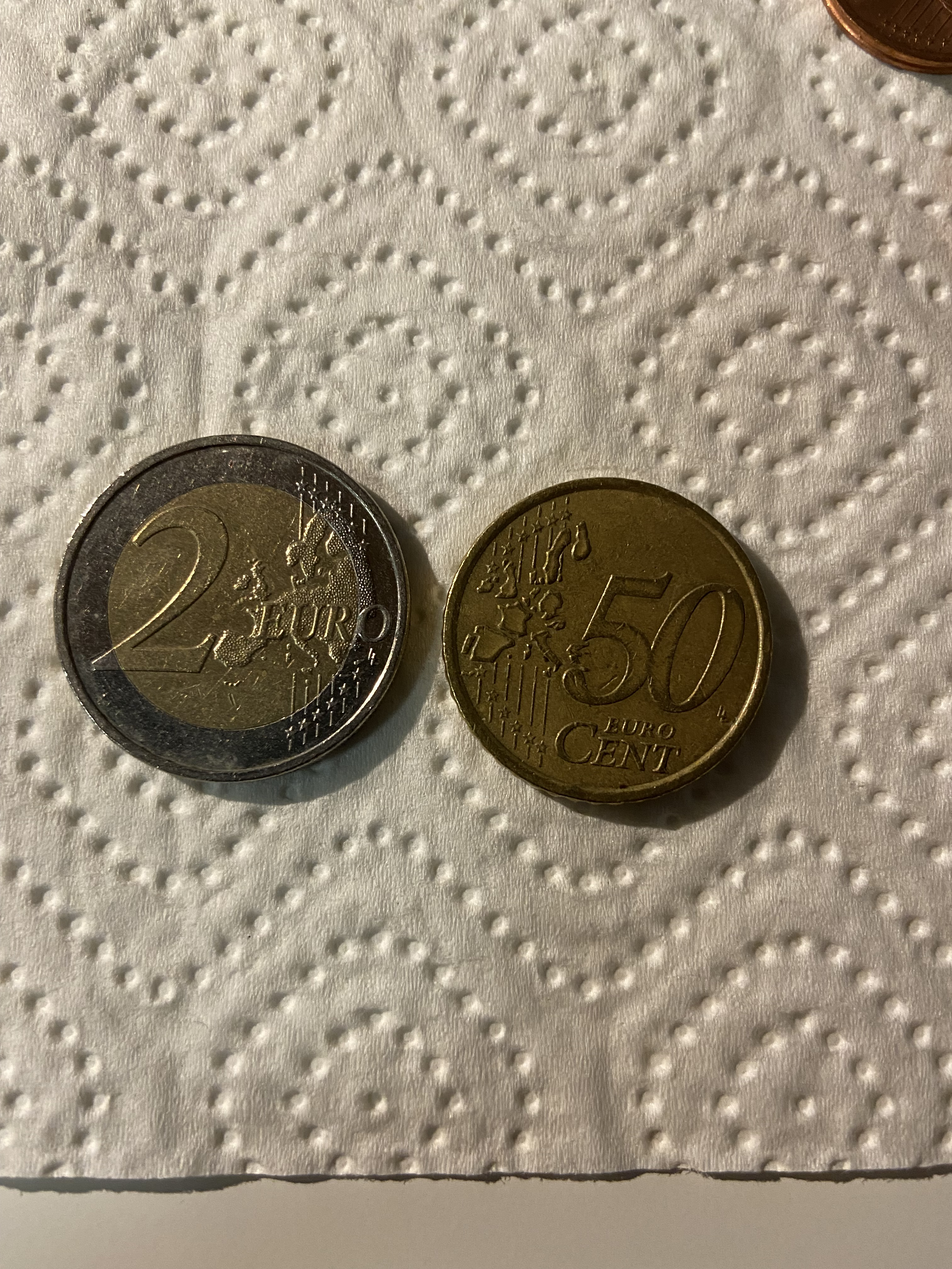2 euro: (53, 435, 418, 786)
50 cent: (450, 471, 777, 823)
